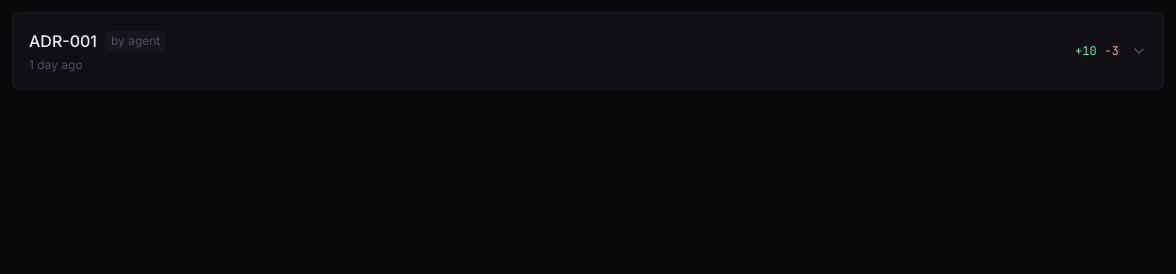
Test: DiffCard › expands when clicked
What coordinates should you click on to do the following:
click the button
I would click on:
 (63, 41)
Its box is [13,13,1163,89].
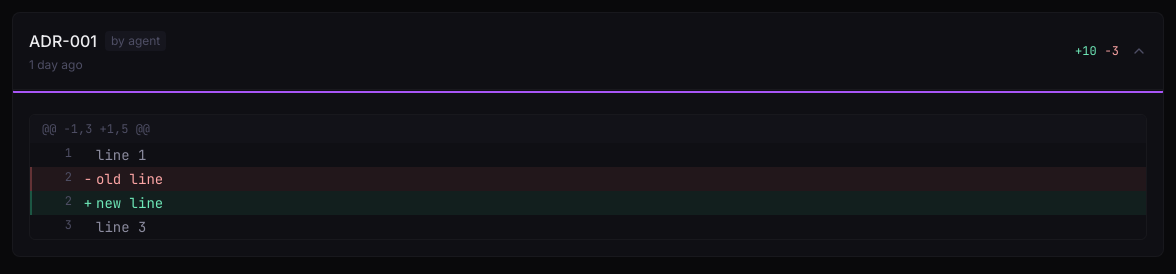
Now the text "old line" is shown, box [96,170,163,188]
Now the text "new line" is shown, box [96,194,163,212]
